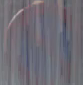No waiting: (4, 2, 73, 76)
